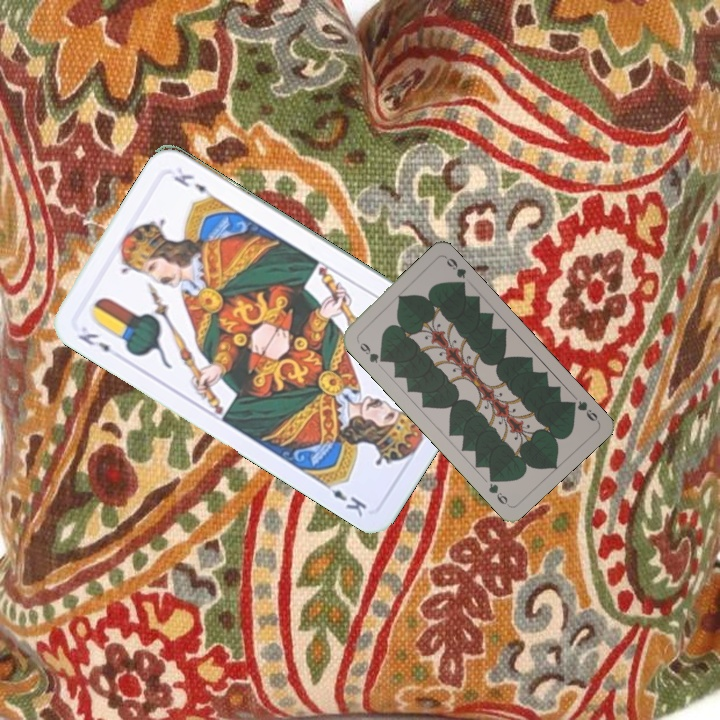EK: (74, 328, 123, 362)
G9: (565, 396, 601, 425), (353, 336, 387, 366)
